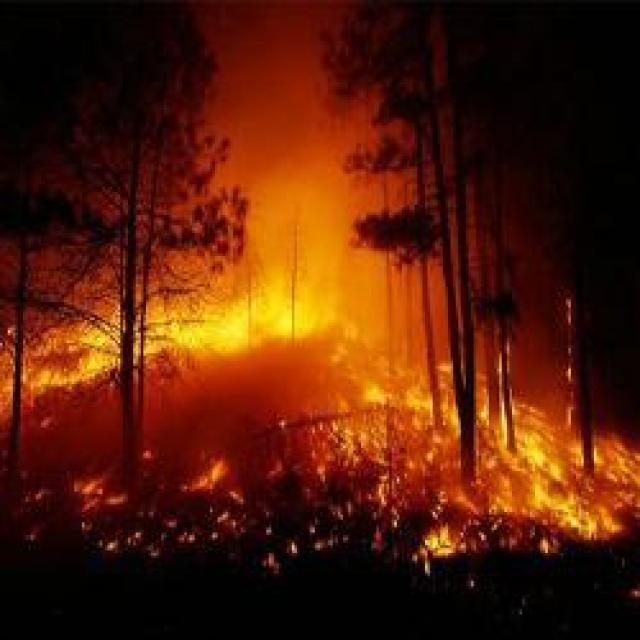Fire: (0, 261, 640, 556)
Smoke: (9, 0, 640, 408)
